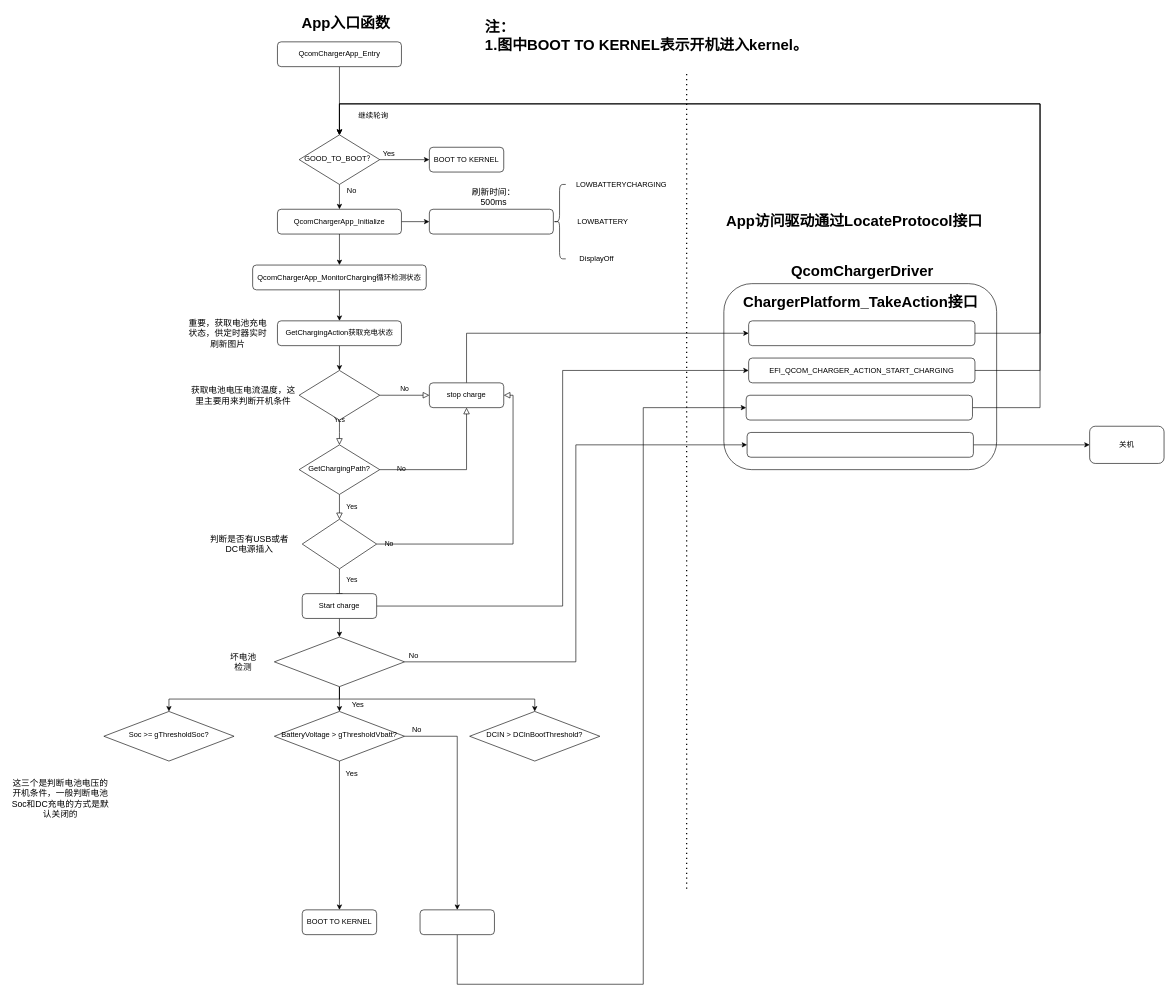
This 1175x1000 diagram has some shape labels left out. Here are the shapes that lost their labels. From the top down, the box of each, then its label:
(429, 209, 553, 234): 创建AnimImgTimer定时器刷新UI
(748, 320, 975, 346): EFI_QCOM_CHARGER_ACTION_STOP_CHARGING
(299, 370, 380, 420): GetBatteryStatus？
(746, 395, 972, 420): EFI_QCOM_CHARGER_ACTION_CONTINUE
(746, 432, 973, 457): EFI_QCOM_CHARGER_ACTION_BAD_BATTERY
(302, 519, 377, 569): USB or DCIN?
(274, 636, 405, 687): BatteryVoltage > gThresholdBadBat?
(419, 909, 494, 935): ACTION_CONTINUE
